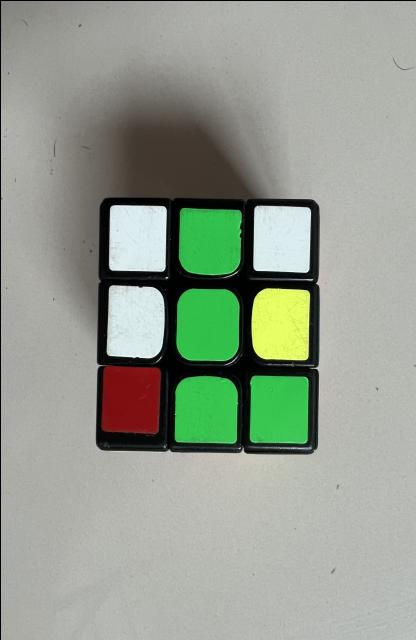Green: (176, 288, 238, 361), (173, 375, 237, 442), (178, 206, 240, 275), (249, 375, 308, 442)
Red: (101, 365, 160, 432)
White: (106, 285, 164, 358), (108, 204, 166, 271), (252, 205, 310, 271)
Yellow: (250, 288, 309, 360)
